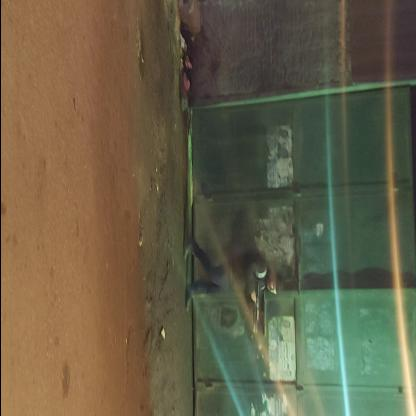long weapon: (246, 276, 264, 340)
